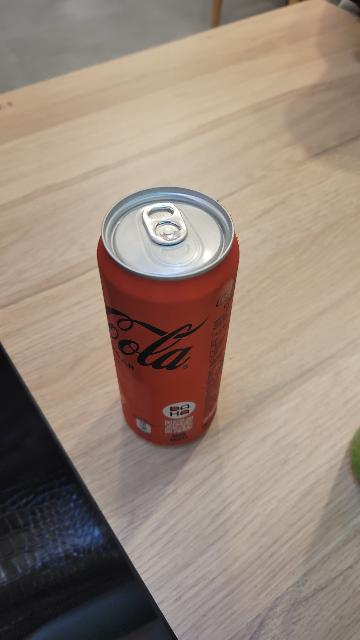Metal: (92, 183, 243, 452)
